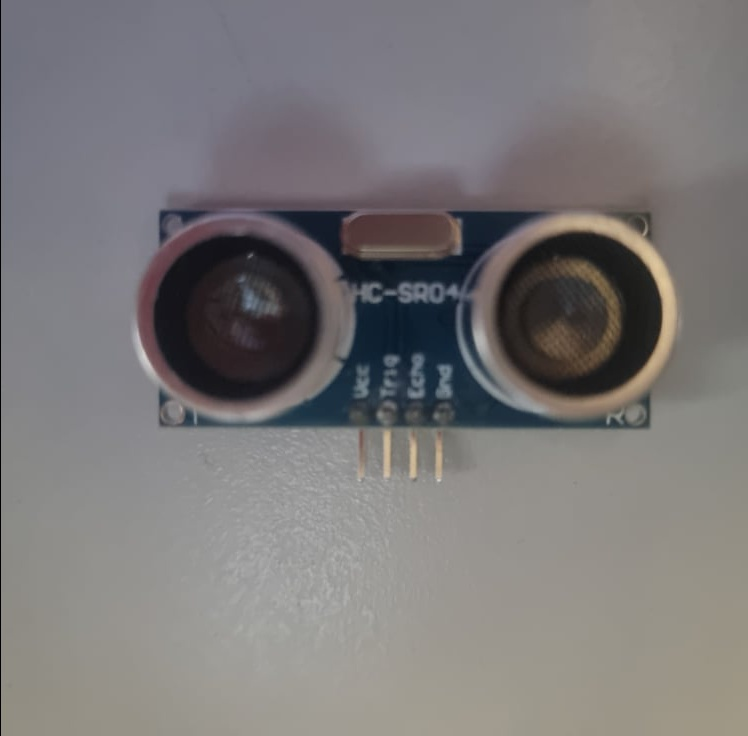SENSOR: (122, 206, 681, 483)
